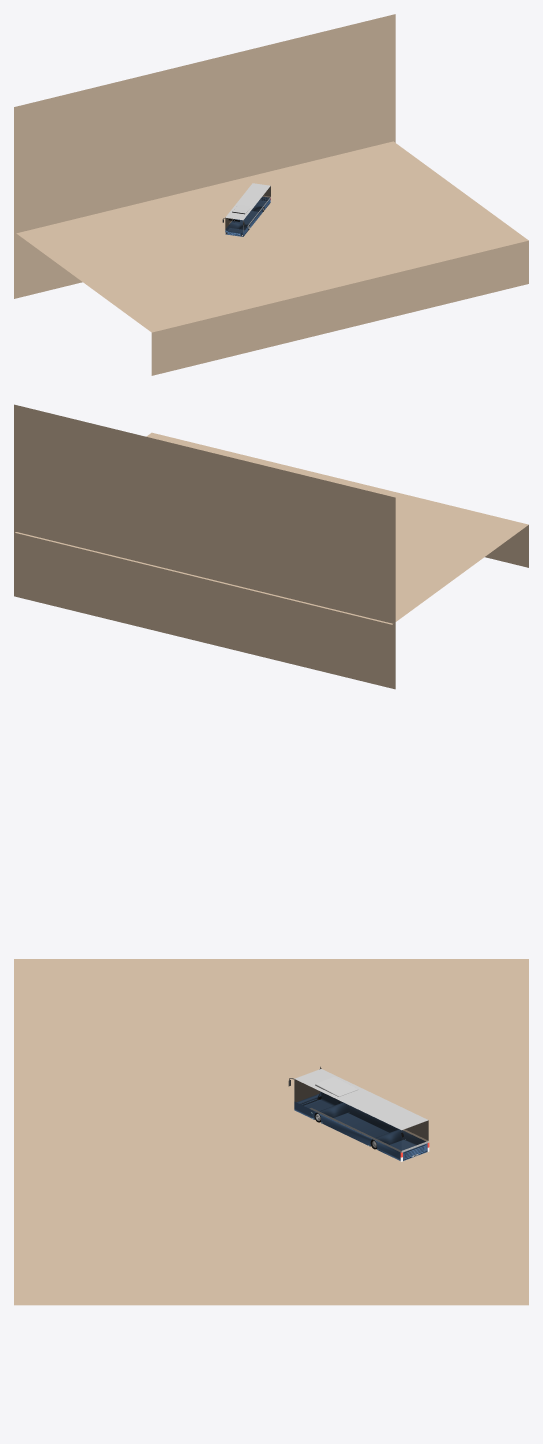
The model's file is turbosquid_Bus.glb.
3 renders of one model, top to bottom at view 1: azimuth 30°, elevation 25°; view 2: azimuth 150°, elevation 25°; view 3: azimuth 270°, elevation 25°, orthographic. The views are drawn at different scales.
Parts seen in each view (by area): view 1: Plane, Plane.001, Cube, bus, Cube.002; view 2: Plane.001, Plane; view 3: Plane, bus, Cube, Cube.002.
Boxes of the visible parts, box(x1,y1,x2,y2) form: Plane: box(16, 141, 528, 375); Plane.001: box(14, 14, 395, 298); Cube: box(225, 183, 270, 231); bus: box(225, 196, 270, 236); Cube.002: box(225, 186, 270, 232); Plane.001: box(14, 404, 395, 689); Plane: box(15, 432, 528, 624); Plane: box(14, 959, 528, 1305); bus: box(294, 1092, 427, 1160); Cube: box(294, 1069, 428, 1152); Cube.002: box(294, 1079, 428, 1150).
Bounding box in the file's own units: 21.28 × 10.22 × 13.22.
